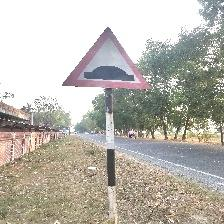Speed-breaker: (63, 29, 148, 88)
